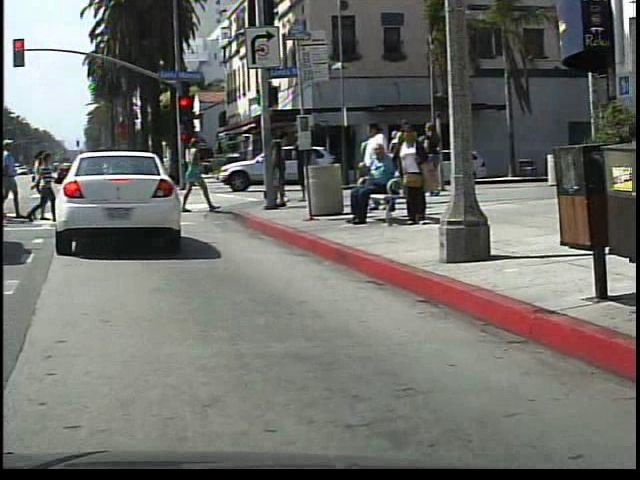person: (351, 145, 406, 225), (399, 123, 436, 227), (183, 133, 217, 222)
